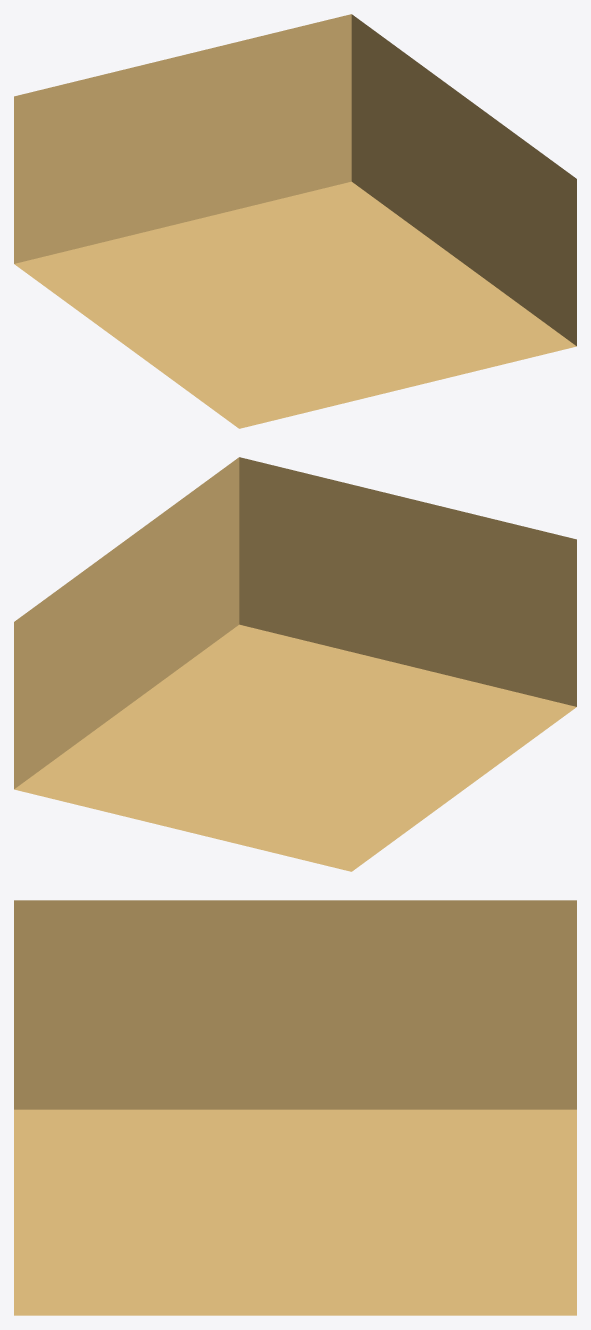
Rendered from production-planning-moroccan-night-018.glb.
The picture shows the model from 3 angles, top to bottom: view 1: azimuth 30°, elevation 25°; view 2: azimuth 150°, elevation 25°; view 3: azimuth 270°, elevation 25°; orthographic projection. The views are drawn at different scales.
Visible parts, largest first — view 1: Moroccan Night Production Planning; view 2: Moroccan Night Production Planning; view 3: Moroccan Night Production Planning.
Boxes of the visible parts, <box> form: Moroccan Night Production Planning: <box>14,14,576,428</box>; Moroccan Night Production Planning: <box>14,457,576,871</box>; Moroccan Night Production Planning: <box>14,900,576,1315</box>.
Size of the model in its own units: 1.35 by 0.64 by 1.56.
